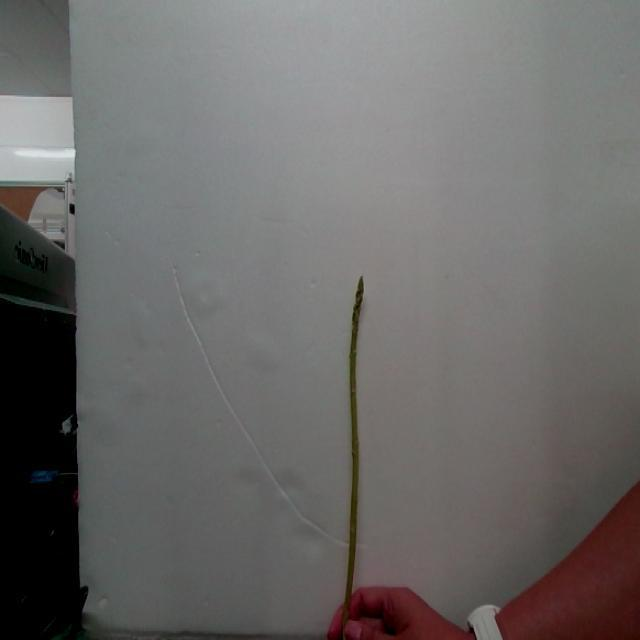aspargus: (344, 279, 367, 605)
